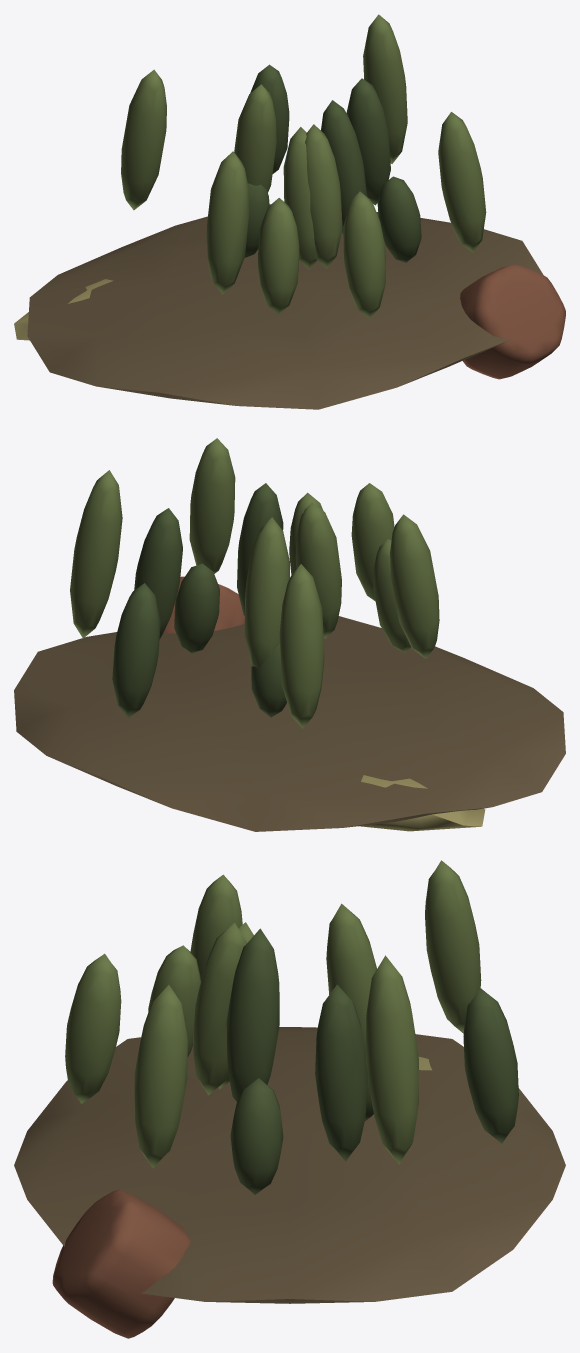
File: reed_clump_c.glb
3 renders of one model, top to bottom at view 1: azimuth 30°, elevation 25°; view 2: azimuth 150°, elevation 25°; view 3: azimuth 270°, elevation 25°, orthographic. The views are drawn at different scales.
Visible parts, largest first — view 1: Surface; view 2: Surface; view 3: Surface.
Boxes of the visible parts, x1=… form: Surface: x1=14, y1=14, x2=565, y2=409; Surface: x1=14, y1=438, x2=565, y2=831; Surface: x1=14, y1=860, x2=565, y2=1338.
Size of the model in its own units: 2.45 by 1.44 by 1.99.
